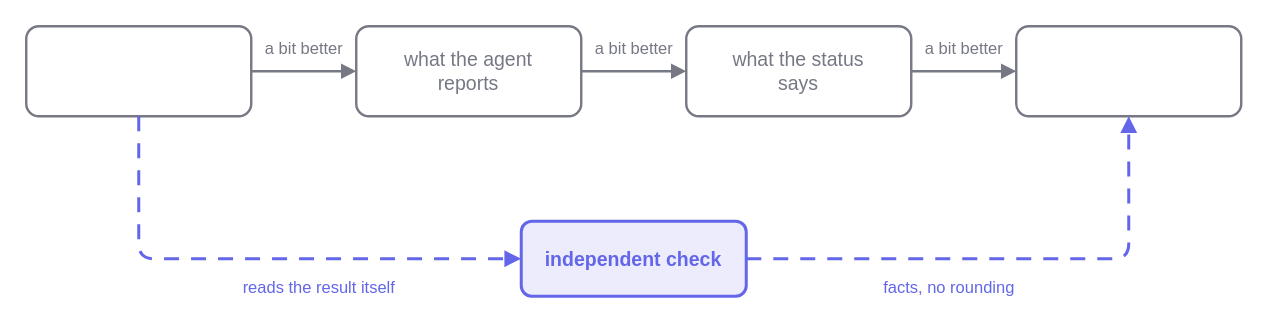
This 1269x324 diagram has some shape labels left out. Each missing label, with the box of its shape:
what happened: (24, 24, 252, 117)
what the decision is based on: (1014, 24, 1242, 117)
